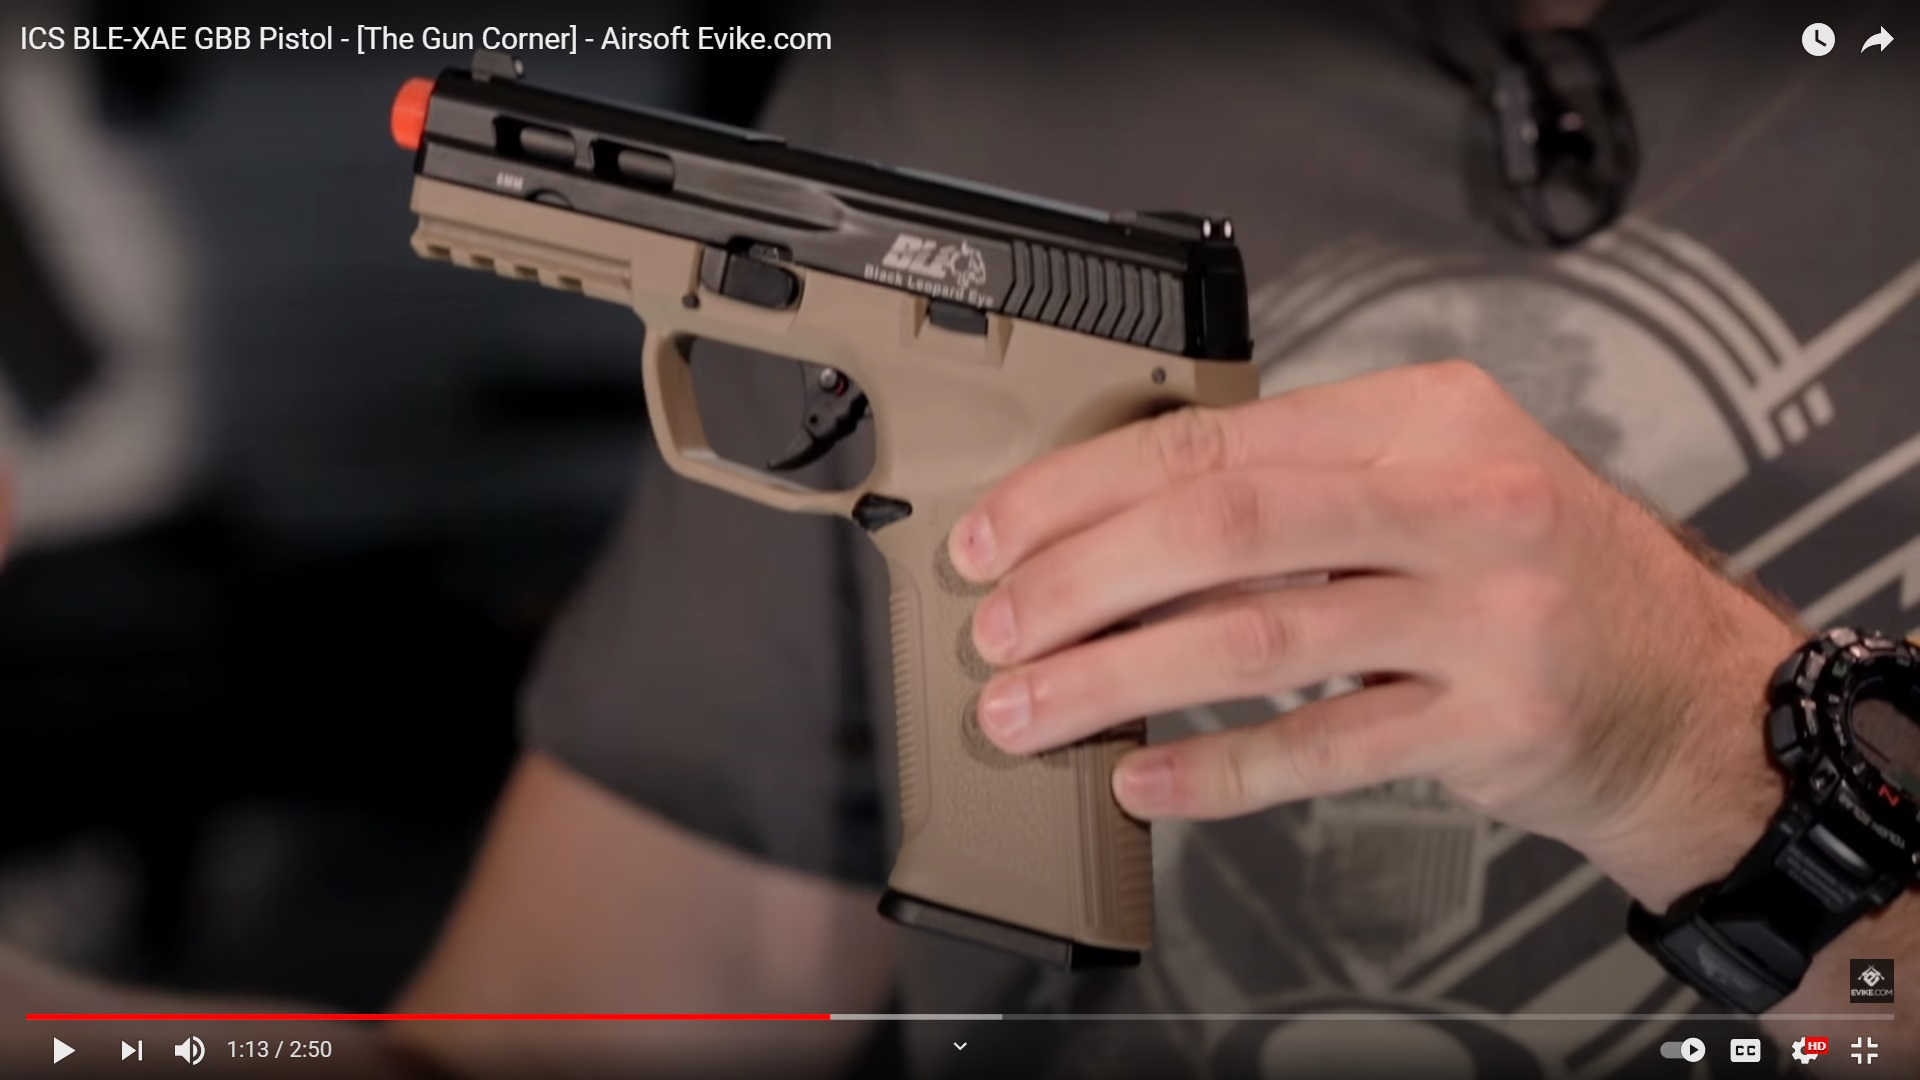asg_ics_ble_xae: (388, 73, 1282, 975)
